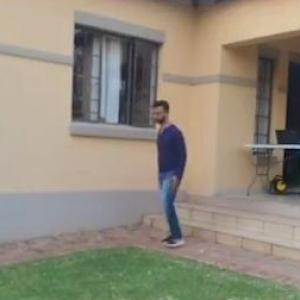follow: (144, 100, 183, 238)
